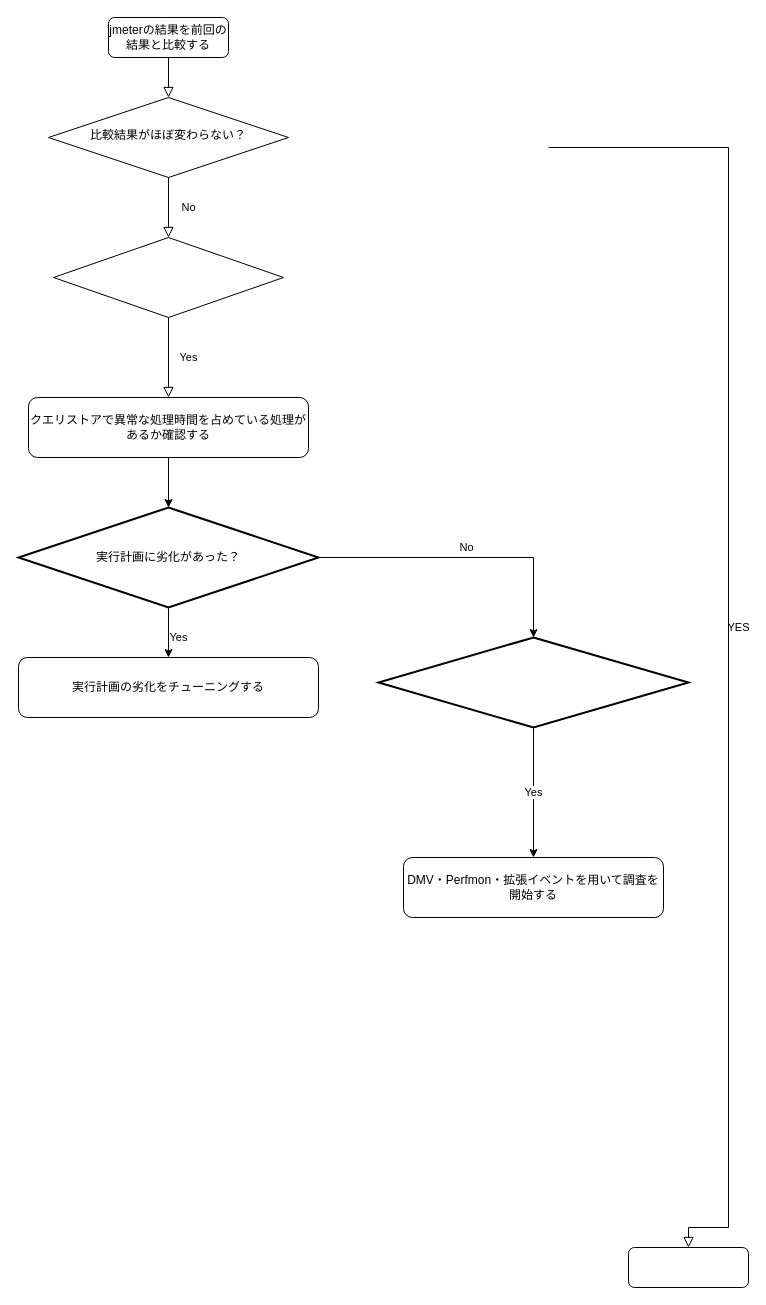
Some shapes in this 766 by 1305 pixel diagram are drawn without their labels. The shapes that lost their labels are listed below. From the top down, each one's box as (x1, y1, x2, y2) in pixels, then its label:
(52, 236, 284, 318): 結果が劣化した？
(377, 636, 689, 728): 実行計画大きな劣化はなく全体的に処理時間が増えている?
(628, 1246, 748, 1288): 調査終了
